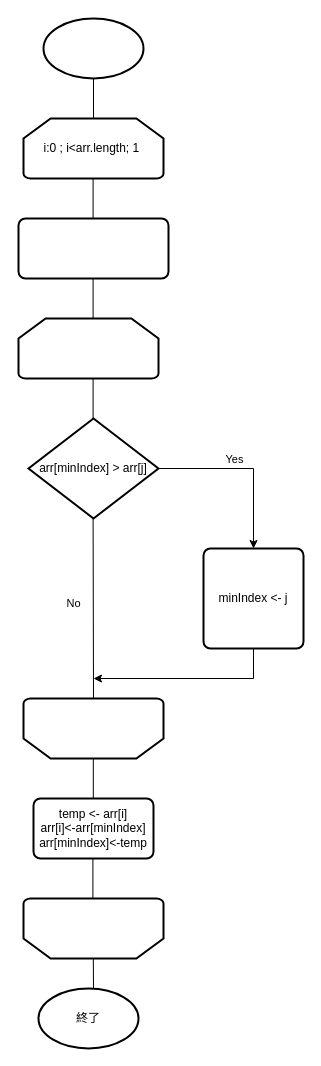
This 321x1066 diagram has some shape labels left out. Here are the shapes that lost their labels. From the top down, the centre of each, then its label:
pixel 93 48: 開始
pixel 93 248: minIndex <- i
pixel 88 348: j:i+1 ; j<arr.length; 1
